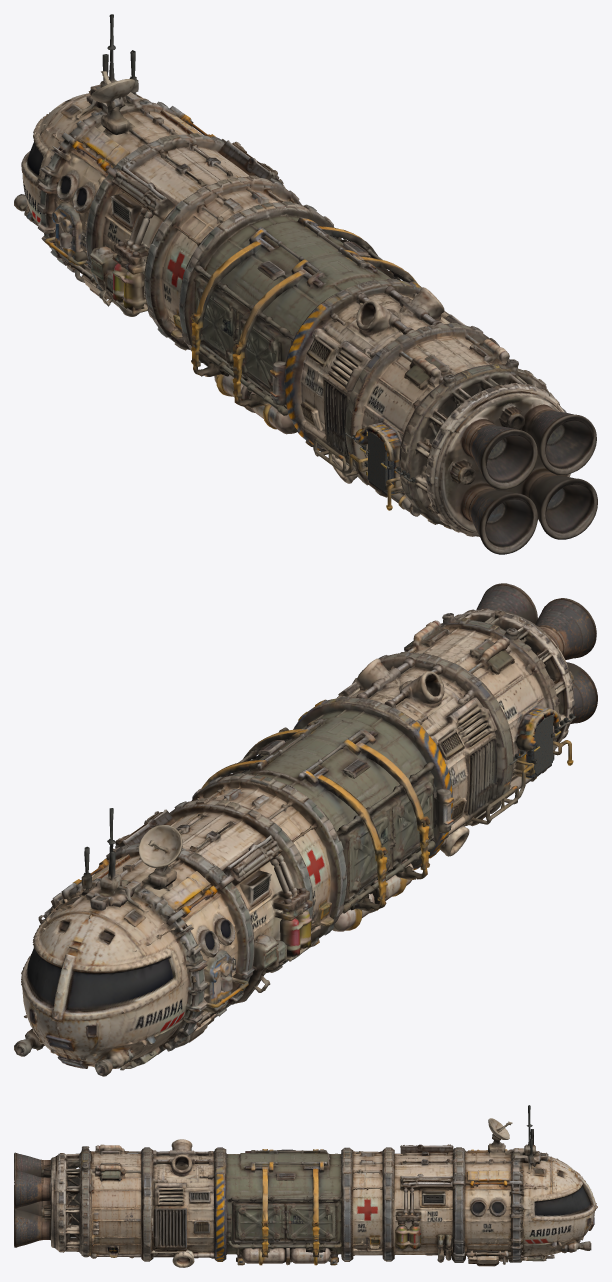
The model's file is eva_shuttle_dock.glb.
3 renders of one model, top to bottom at view 1: azimuth 30°, elevation 25°; view 2: azimuth 150°, elevation 25°; view 3: azimuth 270°, elevation 25°, orthographic. The views are drawn at different scales.
Parts seen in each view (by area): view 1: AriadnaTripoHull, OuterLeafArt; view 2: AriadnaTripoHull, OuterLeafArt; view 3: AriadnaTripoHull.
Boxes of the visible parts, x1,y1,x2,y2 form: AriadnaTripoHull: [14, 14, 597, 554]; OuterLeafArt: [368, 431, 387, 491]; AriadnaTripoHull: [14, 583, 597, 1076]; OuterLeafArt: [533, 715, 553, 774]; AriadnaTripoHull: [14, 1105, 597, 1267].
Size of the model in its own units: 8.88 by 10.87 by 38.29.
Materials: 20 (20 with a texture image).
